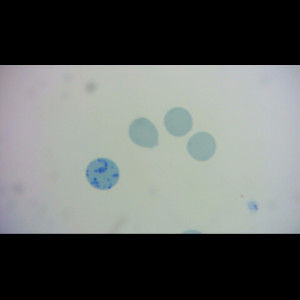aggregate reticulocyte: (83, 157, 121, 191)
erythrocyte: (127, 116, 160, 149), (186, 130, 218, 163), (162, 106, 194, 138)
